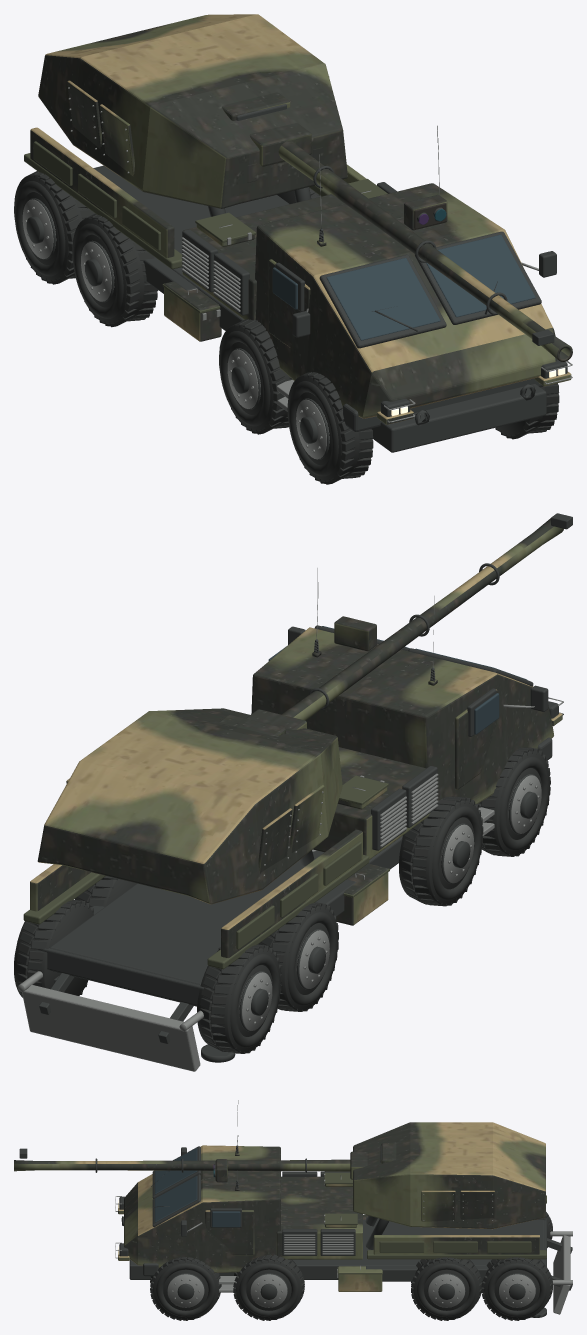
Rendered from archer.glb.
3 views of the same model, one above another, from view 1: azimuth 30°, elevation 25°; view 2: azimuth 150°, elevation 25°; view 3: azimuth 270°, elevation 25° (orthographic). The views are drawn at different scales.
Visible parts, largest first — view 1: body_visual, turret_visual, recoiling-barrel_visual, wheel_R_01_visual, wheel_R_03_visual, wheel_R_02_visual, wheel_R_00_visual, gun_visual, wheel_L_03_visual; view 2: body_visual, turret_visual, spade_visual, wheel_R_02_visual, wheel_R_00_visual, recoiling-barrel_visual, wheel_R_01_visual, wheel_R_03_visual, wheel_L_00_visual, gun_visual, wheel_L_01_visual; view 3: body_visual, turret_visual, wheel_L_00_visual, wheel_L_02_visual, wheel_L_01_visual, recoiling-barrel_visual, wheel_L_03_visual, spade_visual, gun_visual.
Part boxes in pixels (x1,y1,x2,y2): body_visual: (24,125,572,452); turret_visual: (38,14,347,208); recoiling-barrel_visual: (236,104,572,361); wheel_R_01_visual: (72,213,158,327); wheel_R_03_visual: (287,372,373,484); wheel_R_02_visual: (219,319,292,434); wheel_R_00_visual: (14,171,94,284); gun_visual: (222,92,322,182); wheel_L_03_visual: (495,383,559,439); body_visual: (23,568,563,1006); turret_visual: (37,708,342,904); spade_visual: (18,971,203,1071); wheel_R_02_visual: (399,796,483,906); wheel_R_00_visual: (197,944,281,1053); recoiling-barrel_visual: (281,513,572,720); wheel_R_01_visual: (258,902,338,1011); wheel_R_03_visual: (477,747,550,856); wheel_L_00_visual: (14,900,93,997); gun_visual: (218,709,306,735); wheel_L_01_visual: (74,876,136,906); body_visual: (115,1100,546,1292); turret_visual: (353,1122,545,1229); wheel_L_00_visual: (481,1257,552,1320); wheel_L_02_visual: (233,1254,304,1320); wheel_L_01_visual: (411,1257,482,1320); recoiling-barrel_visual: (14,1145,381,1172); wheel_L_03_visual: (150,1257,221,1320); spade_visual: (547,1231,572,1314); gun_visual: (350,1143,396,1179).
Size of the model in its own units: 3.8 by 3.95 by 11.64.
Materials: 10 (1 with a texture image).
